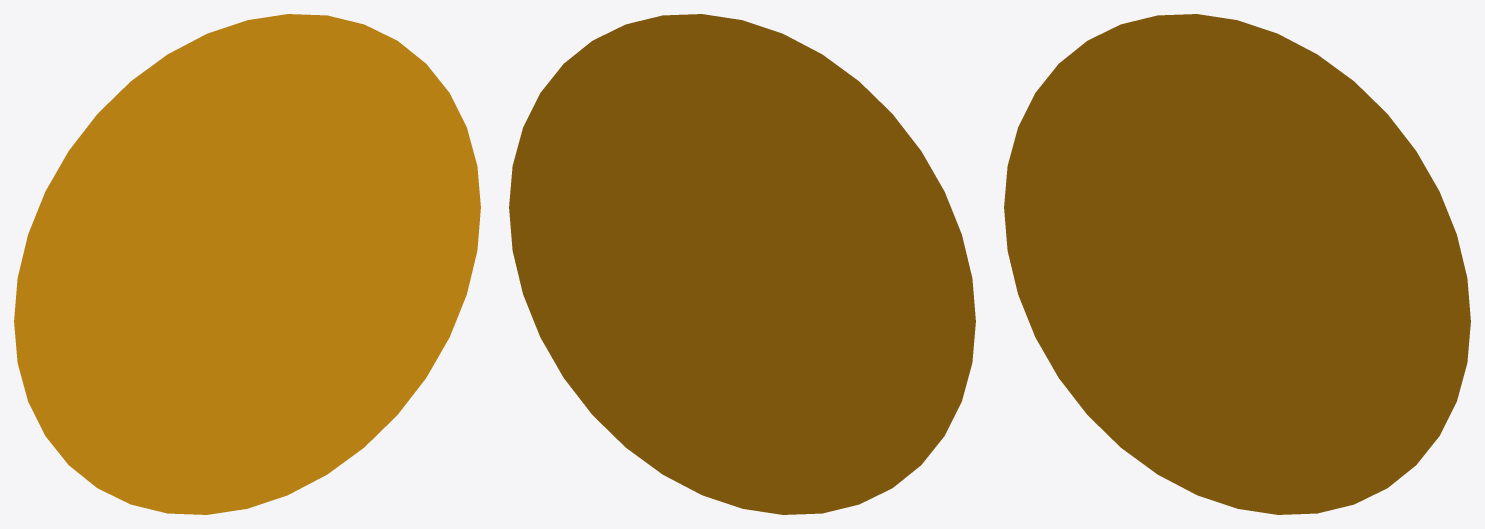
The model's file is ring 1.fbx.
3 views of the same model, side by side, from view 1: azimuth 30°, elevation 25°; view 2: azimuth 150°, elevation 25°; view 3: azimuth 330°, elevation 25° (orthographic).
Visible parts, largest first — view 1: Disc; view 2: Disc; view 3: Disc.
Boxes of the visible parts, bbox=[...] form: Disc: bbox=[14, 14, 480, 514]; Disc: bbox=[509, 14, 975, 514]; Disc: bbox=[1004, 14, 1470, 514].
Size of the model in its own units: 200 by 200 by 5.67e-14.
